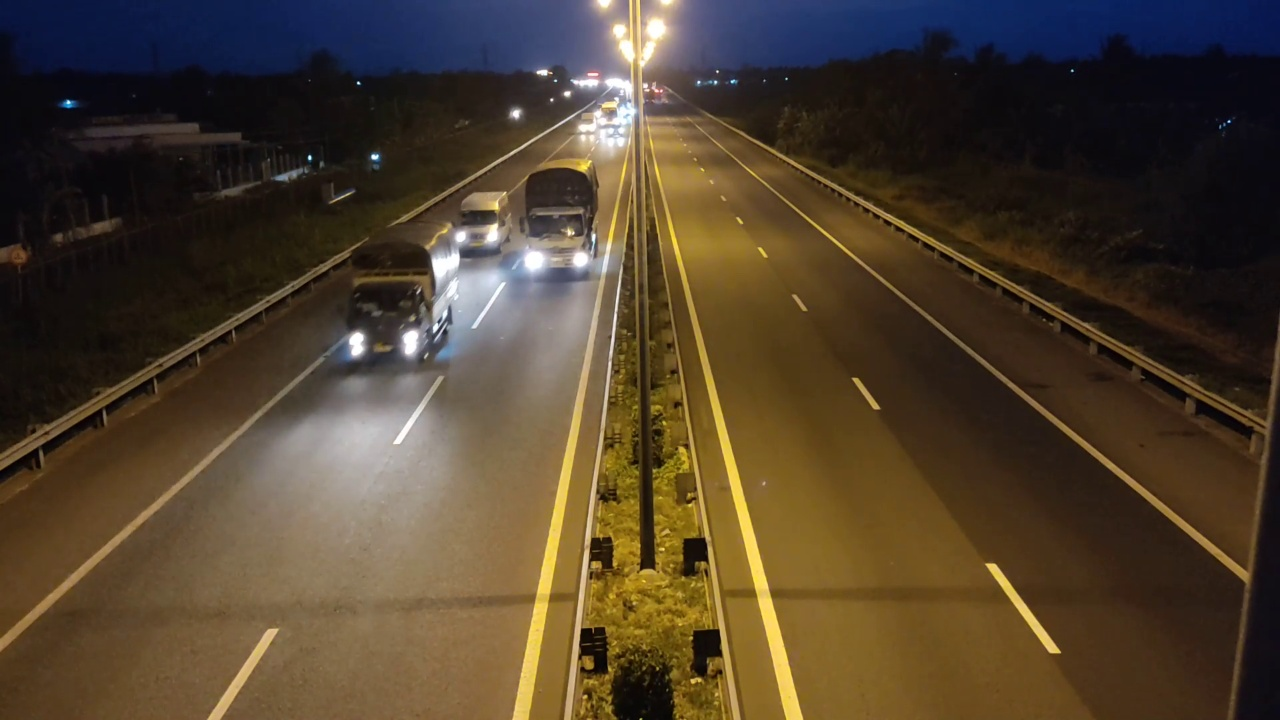car: (454, 191, 512, 257)
truck: (340, 215, 460, 374), (523, 155, 601, 278)
